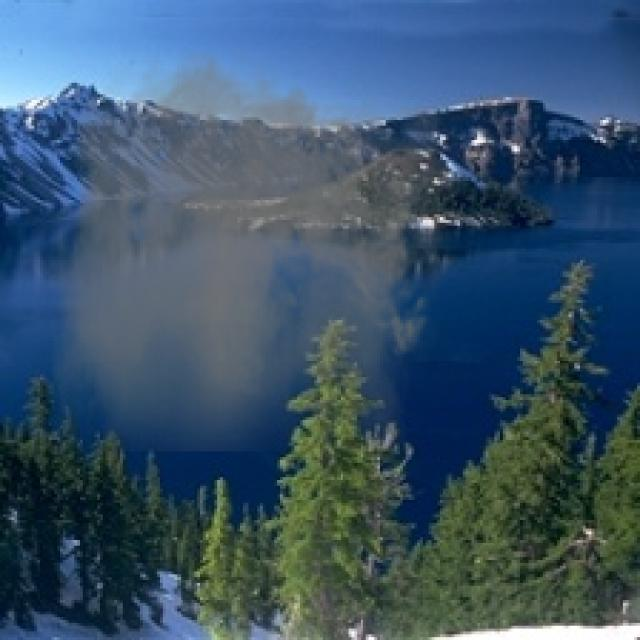smoke: (51, 37, 440, 452)
